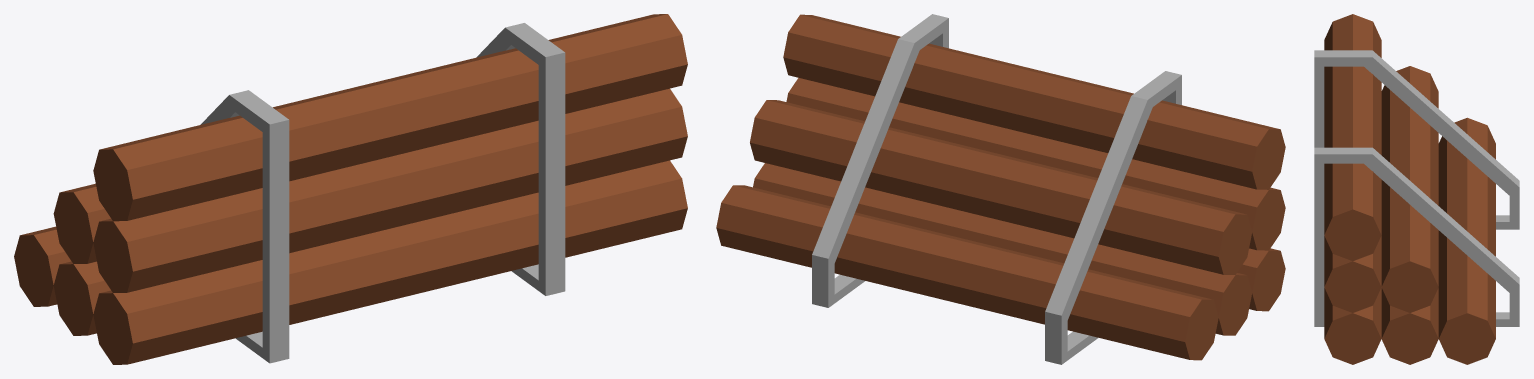
File: WallLvl1.fbx
3 views of the same model, side by side, from view 1: azimuth 30°, elevation 25°; view 2: azimuth 150°, elevation 25°; view 3: azimuth 270°, elevation 25° (orthographic). The views are drawn at different scales.
Visible parts, largest first — view 1: Cube.002; view 2: Cube.002; view 3: Cube.002.
Part boxes in pixels (box(x1,y1,x2,y2)): Cube.002: box(14, 14, 687, 364); Cube.002: box(716, 14, 1285, 364); Cube.002: box(1314, 14, 1519, 364).
Size of the model in its own units: 297 by 122 by 132.
